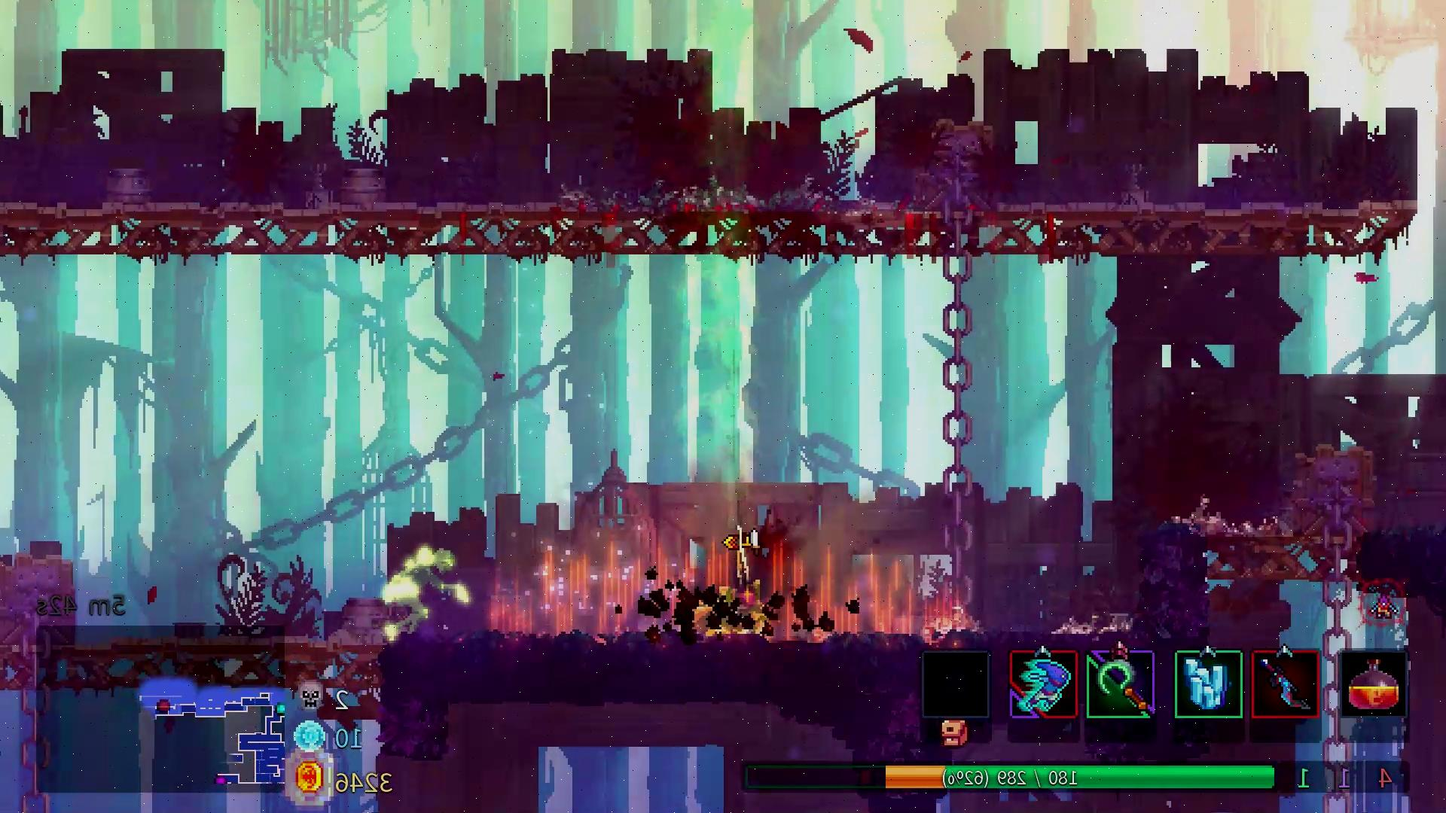green1: (373, 547, 481, 642)
